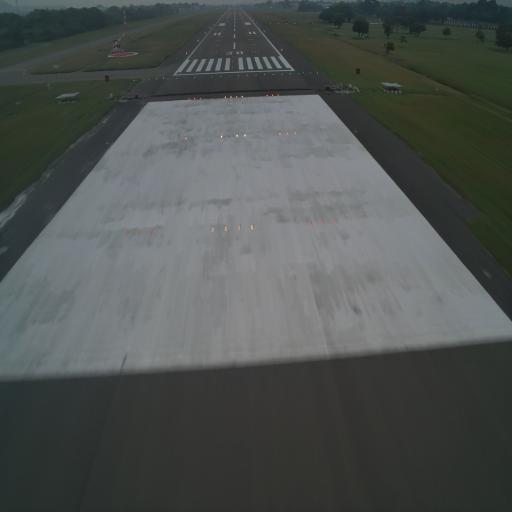off: (480, 264, 493, 287)
on: (123, 228, 130, 242), (250, 222, 256, 235), (150, 226, 156, 238), (236, 221, 241, 235), (209, 225, 215, 236), (222, 225, 228, 236), (138, 228, 143, 239), (308, 220, 314, 229), (333, 216, 338, 226), (319, 220, 325, 228)
